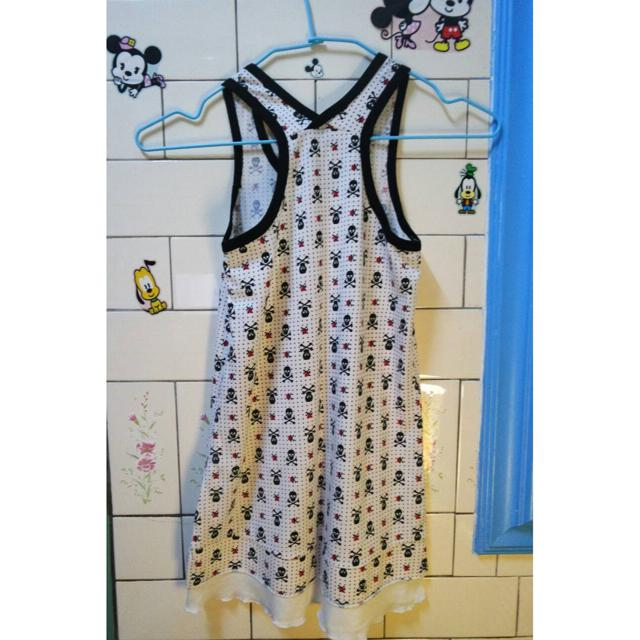Dresses: (184, 54, 428, 640)
